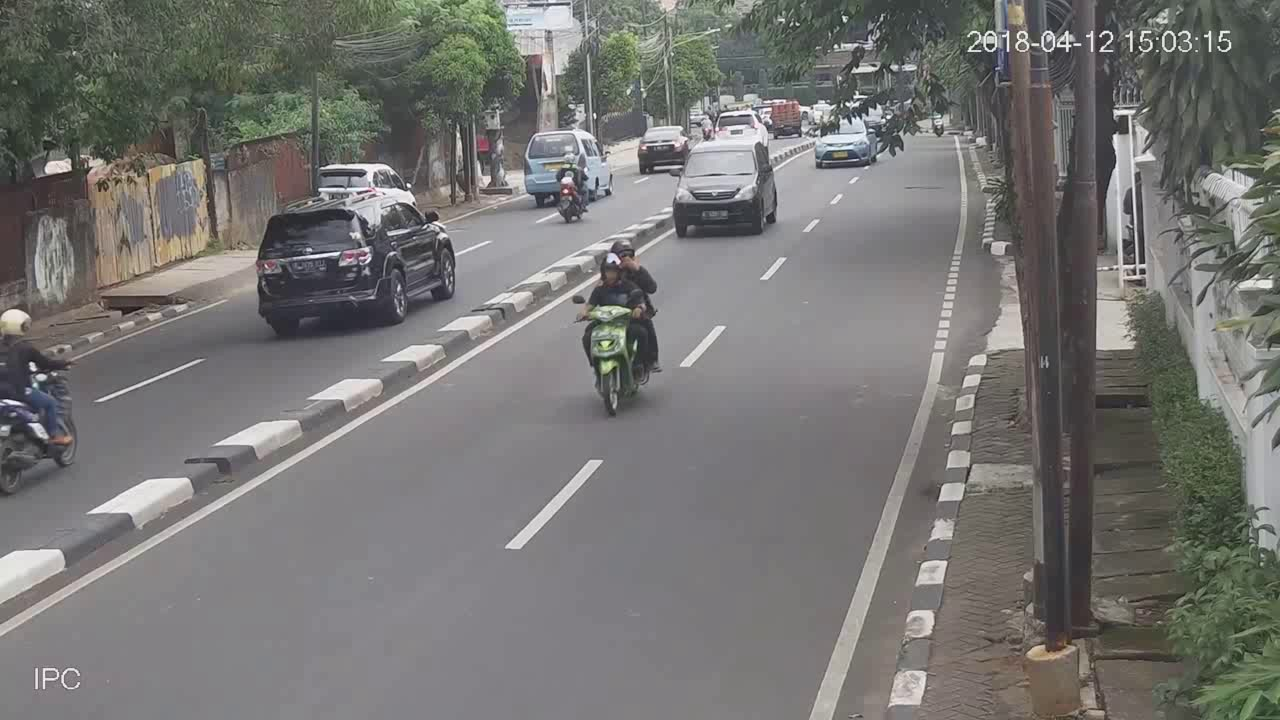car: (253, 198, 456, 344), (670, 140, 779, 238), (525, 126, 615, 204), (814, 115, 884, 169), (634, 122, 689, 176), (716, 108, 767, 146)
motorcycle: (1, 305, 83, 498), (575, 241, 661, 416), (551, 148, 590, 222)
